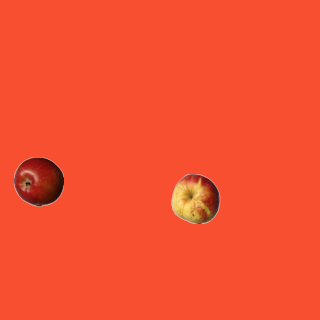Apple Braeburn: (13, 156, 63, 206)
Apple Red Yellow 1: (170, 173, 220, 223)
